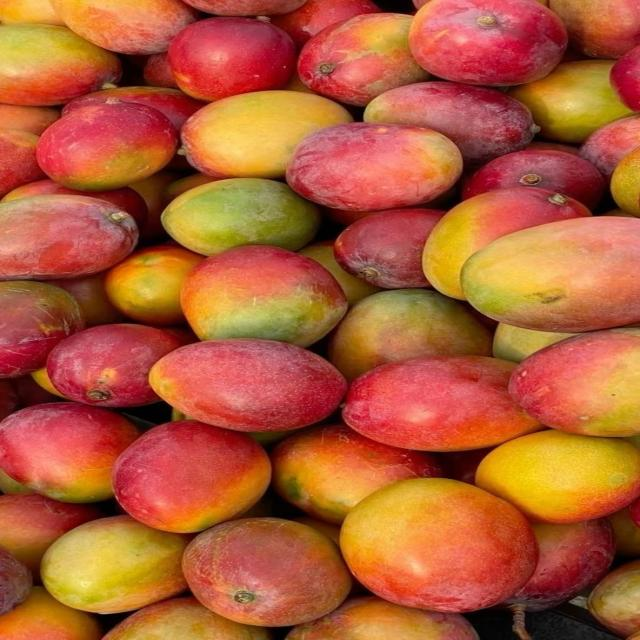mango: (340, 478, 537, 612), (461, 216, 639, 333), (342, 355, 543, 451), (422, 186, 590, 300), (149, 339, 345, 432), (183, 518, 351, 626), (113, 420, 270, 533), (271, 424, 443, 525), (182, 246, 346, 347), (285, 122, 463, 212), (328, 289, 492, 382), (476, 430, 639, 523), (181, 90, 353, 178), (363, 81, 537, 166), (41, 516, 189, 614), (0, 402, 141, 503), (409, 0, 567, 86), (162, 178, 321, 256), (297, 13, 429, 106), (37, 103, 177, 190), (44, 323, 182, 407), (0, 196, 137, 280), (168, 17, 295, 101), (501, 518, 615, 611), (509, 60, 634, 143), (0, 24, 121, 106), (336, 208, 443, 289), (284, 596, 478, 640), (463, 149, 604, 209), (53, 0, 197, 54), (103, 596, 270, 640), (62, 86, 205, 131), (271, 0, 381, 48), (549, 0, 639, 58), (579, 115, 639, 182), (610, 147, 639, 217)
